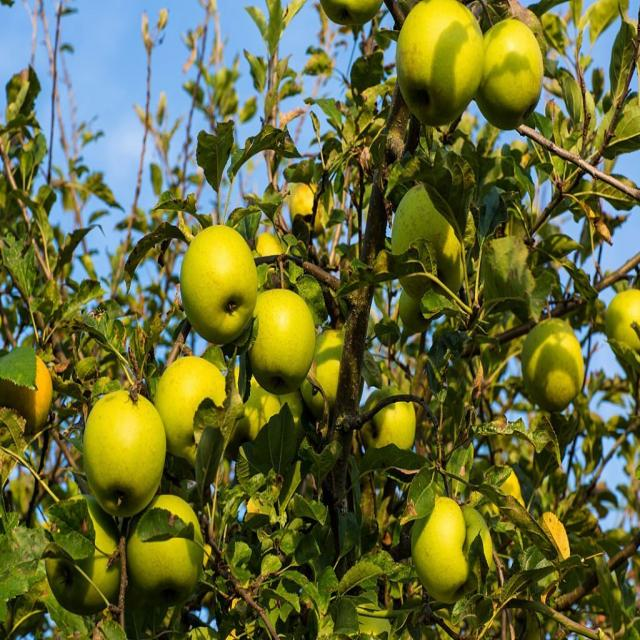Green Apple: (82, 390, 171, 512), (399, 1, 488, 120), (394, 175, 468, 297), (411, 506, 498, 605), (181, 224, 254, 338), (157, 353, 233, 459), (43, 497, 120, 599), (131, 499, 201, 597), (247, 289, 314, 385), (478, 23, 543, 120), (525, 318, 585, 405), (240, 373, 297, 451), (364, 386, 419, 456), (307, 321, 353, 403), (3, 354, 58, 421), (604, 293, 640, 354), (324, 1, 387, 30), (292, 185, 329, 229), (254, 228, 287, 275)
